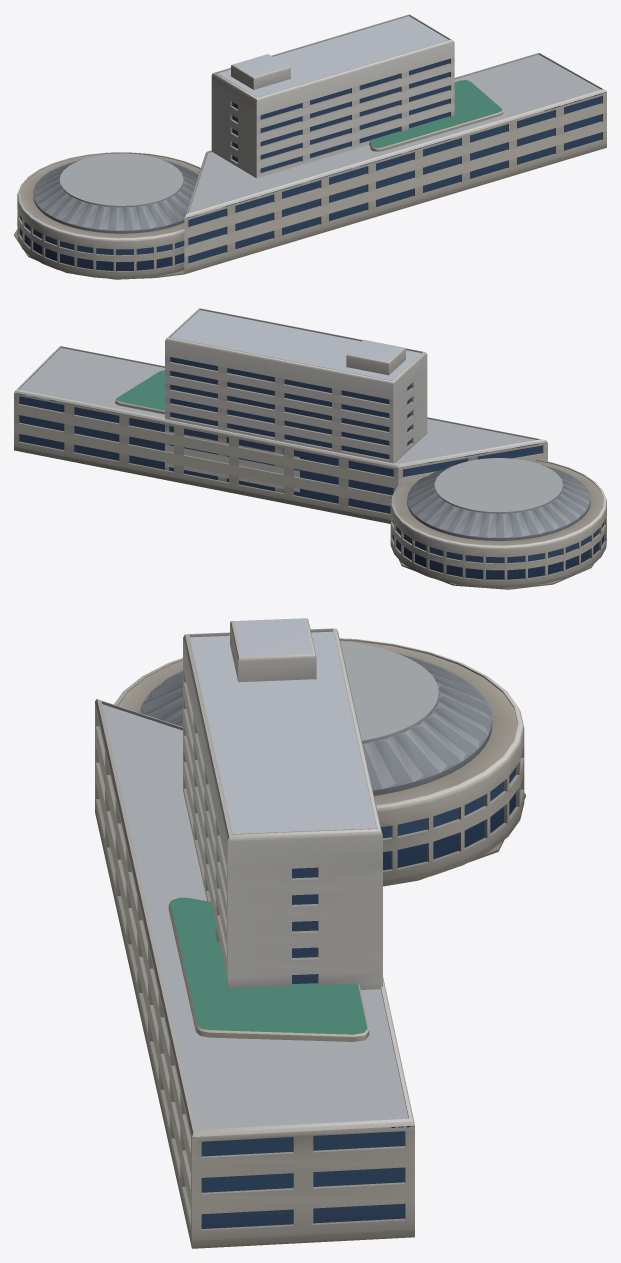
The picture shows the model from 3 angles, top to bottom: view 1: azimuth 30°, elevation 25°; view 2: azimuth 150°, elevation 25°; view 3: azimuth 270°, elevation 25°; orthographic projection. The views are drawn at different scales.
Visible parts, largest first — view 1: LM_hq; view 2: LM_hq; view 3: LM_hq.
Part boxes in pixels (box(x1,y1,x2,y2)): LM_hq: box(14, 14, 606, 279); LM_hq: box(14, 308, 606, 589); LM_hq: box(95, 618, 525, 1248).
Size of the model in its own units: 104 by 26.7 by 35.53.
